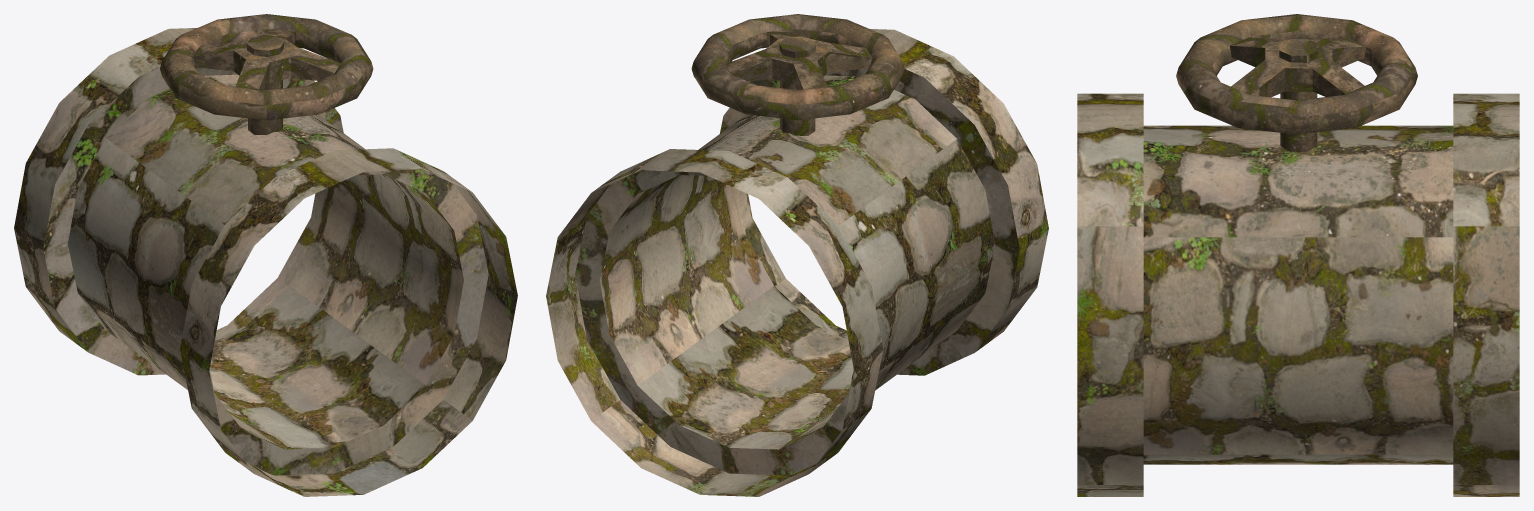
File: Pipe_Vanne.FBX
The picture shows the model from 3 angles, left to right: view 1: azimuth 30°, elevation 25°; view 2: azimuth 150°, elevation 25°; view 3: azimuth 270°, elevation 25°; orthographic projection. The views are drawn at different scales.
Visible parts, largest first — view 1: Object024; view 2: Object024; view 3: Object024.
Boxes of the visible parts, x1,y1,x2,y2 form: Object024: [14, 14, 517, 496]; Object024: [546, 14, 1048, 496]; Object024: [1077, 14, 1519, 496].
Bounding box in the file's own units: 44.5 × 48.73 × 52.39.
Materials: 2 (2 with a texture image).
